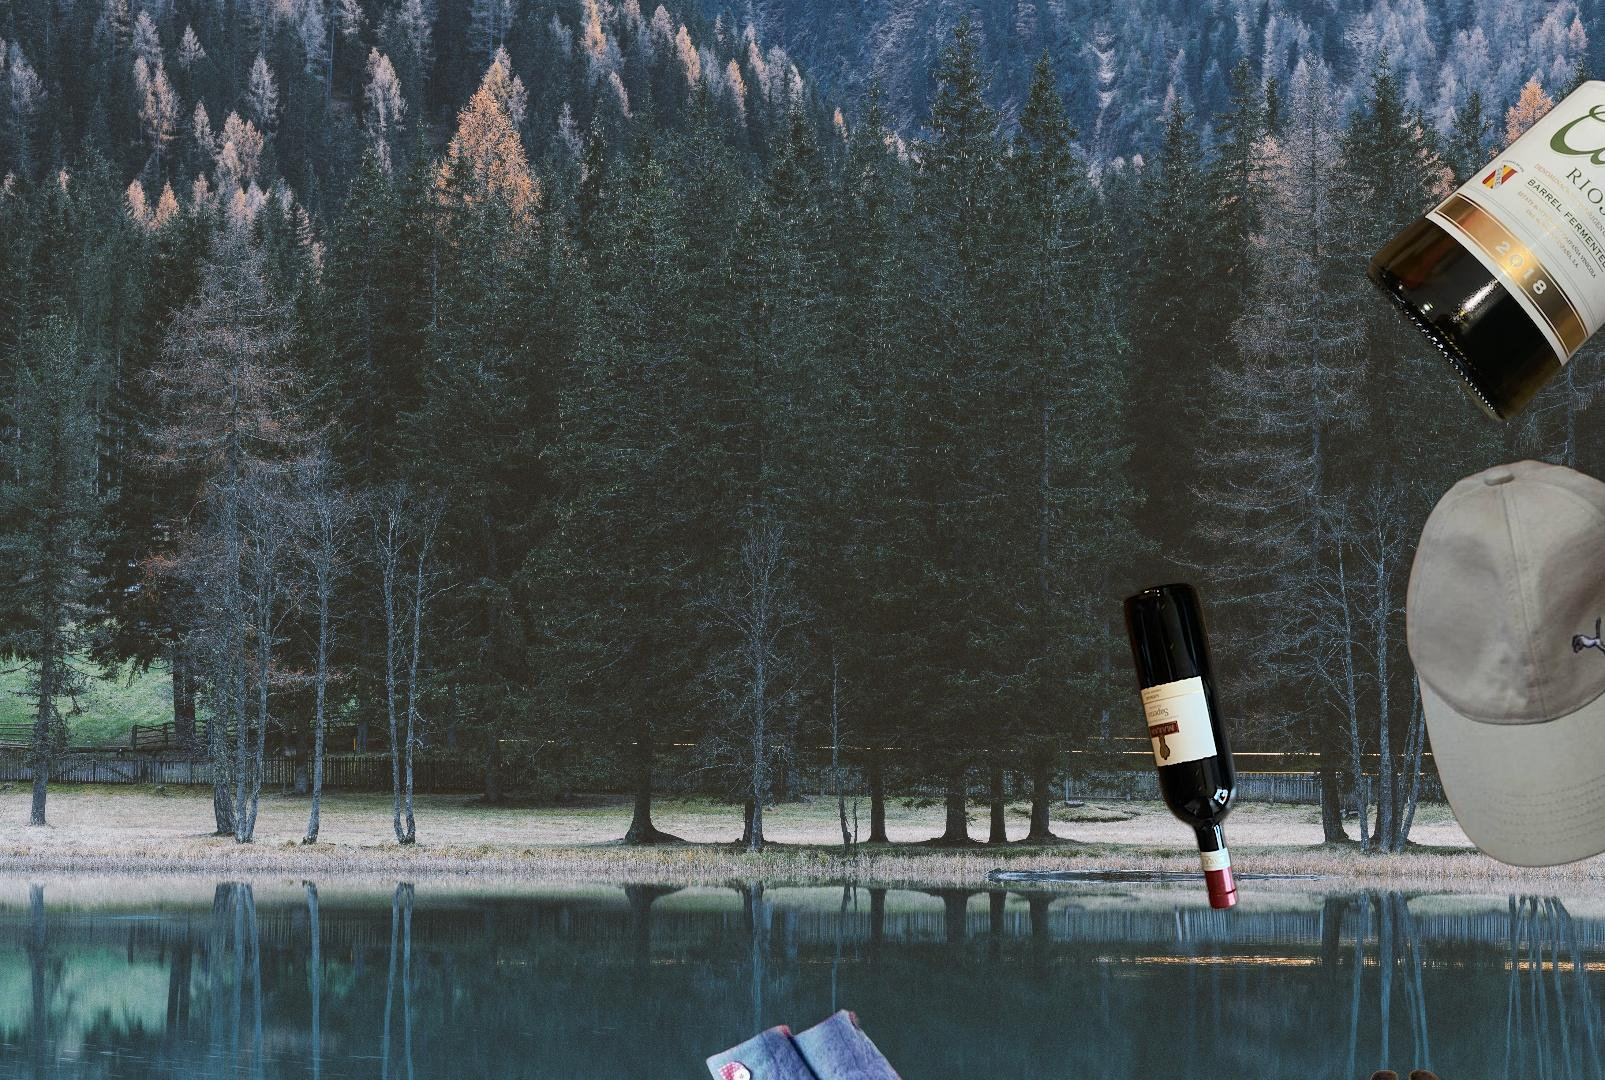clothes: (1403, 454, 1605, 873)
glass: (1363, 5, 1605, 432), (1119, 576, 1244, 917)
metal-cans: (1511, 532, 1605, 716)
shoes: (705, 990, 905, 1080), (1262, 1064, 1480, 1080)
